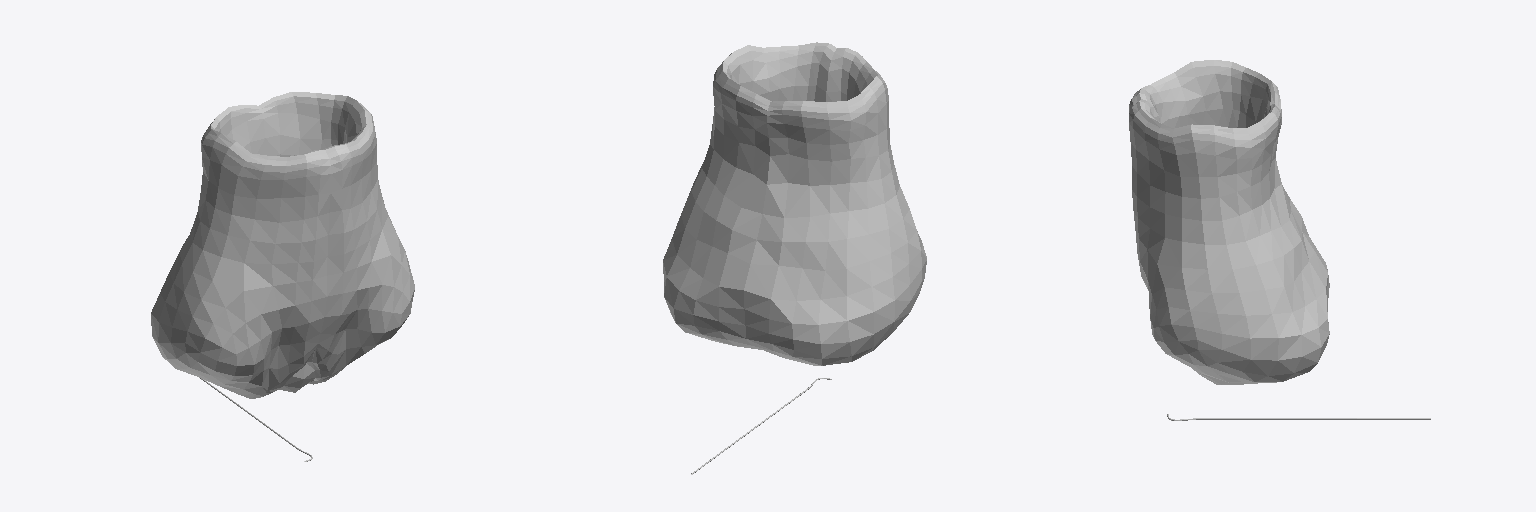
The model's file is GynecologyScene_00069.obj.
3 renders of one model, left to right at view 1: azimuth 30°, elevation 25°; view 2: azimuth 150°, elevation 25°; view 3: azimuth 270°, elevation 25°, orthographic.
Visible parts, largest first — view 1: 12_VisualModel; view 2: 12_VisualModel; view 3: 12_VisualModel.
Boxes of the visible parts, x1,y1,x2,y2 form: 12_VisualModel: [151, 92, 414, 398]; 12_VisualModel: [663, 42, 926, 365]; 12_VisualModel: [1129, 60, 1329, 384].
Bounding box in the file's own units: 7.1 × 9.74 × 8.17.